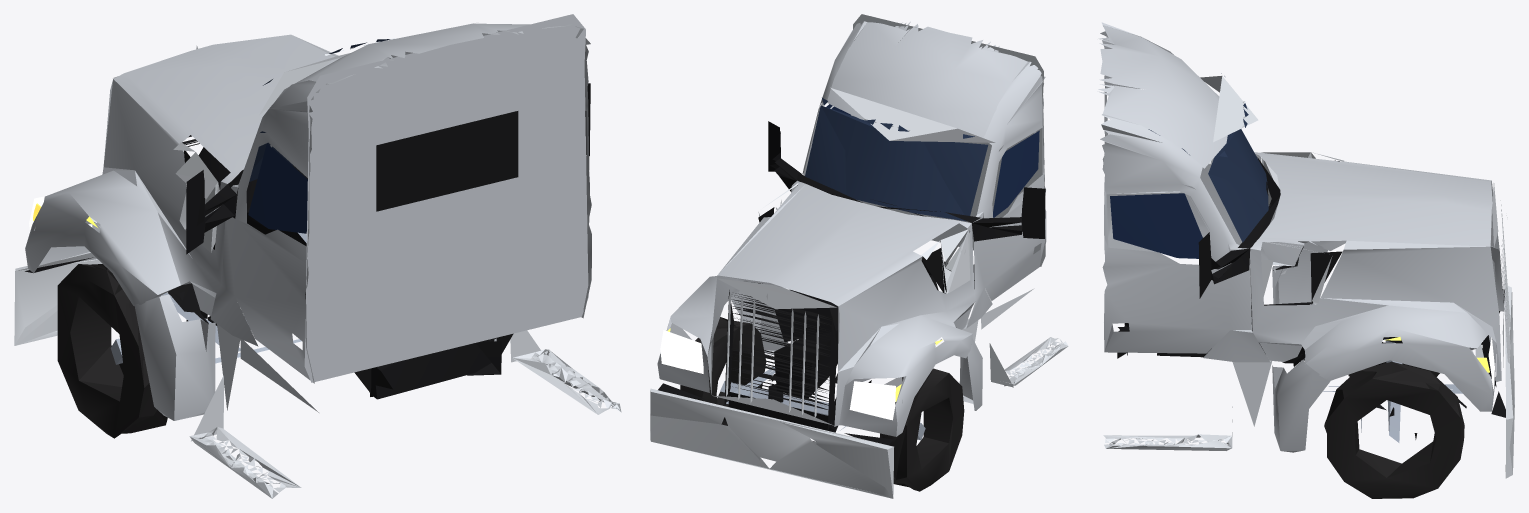
Rendered from cab_americana_lod2.glb.
The picture shows the model from 3 angles, left to right: view 1: azimuth 30°, elevation 25°; view 2: azimuth 150°, elevation 25°; view 3: azimuth 270°, elevation 25°; orthographic projection. The views are drawn at different scales.
Visible parts, largest first — view 1: lod2_paint_white_panel, lod2_plastic_black, lod2_chrome, lod2_rubber_tire, lod2_glass, lod2_steel; view 2: lod2_paint_white_panel, lod2_chrome, lod2_plastic_black, lod2_glass_wind, lod2_rubber_tire, lod2_lamp_white, lod2_glass, lod2_steel; view 3: lod2_paint_white_panel, lod2_rubber_tire, lod2_chrome, lod2_glass, lod2_plastic_black, lod2_glass_wind, lod2_steel.
Part boxes in pixels (x1,y1,x2,y2): lod2_paint_white_panel: [25, 14, 591, 420]; lod2_plastic_black: [25, 83, 590, 399]; lod2_chrome: [14, 23, 621, 498]; lod2_rubber_tire: [57, 264, 167, 438]; lod2_glass: [248, 143, 307, 233]; lod2_steel: [110, 232, 306, 364]; lod2_paint_white_panel: [657, 14, 1046, 436]; lod2_chrome: [650, 87, 1068, 498]; lod2_plastic_black: [658, 121, 1045, 445]; lod2_glass_wind: [805, 98, 988, 221]; lod2_rubber_tire: [680, 317, 964, 491]; lod2_lamp_white: [660, 330, 895, 420]; lod2_glass: [826, 104, 1039, 217]; lod2_steel: [720, 365, 925, 440]; lod2_paint_white_panel: [1097, 22, 1504, 452]; lod2_rubber_tire: [1324, 342, 1464, 498]; lod2_chrome: [1103, 76, 1514, 478]; lod2_glass: [1110, 129, 1202, 258]; lod2_plastic_black: [1117, 157, 1505, 439]; lod2_glass_wind: [1208, 73, 1268, 242]; lod2_steel: [1323, 340, 1462, 442].
Size of the model in its own units: 2.78 by 3.19 by 3.19.
Materials: 9 (3 with a texture image).
